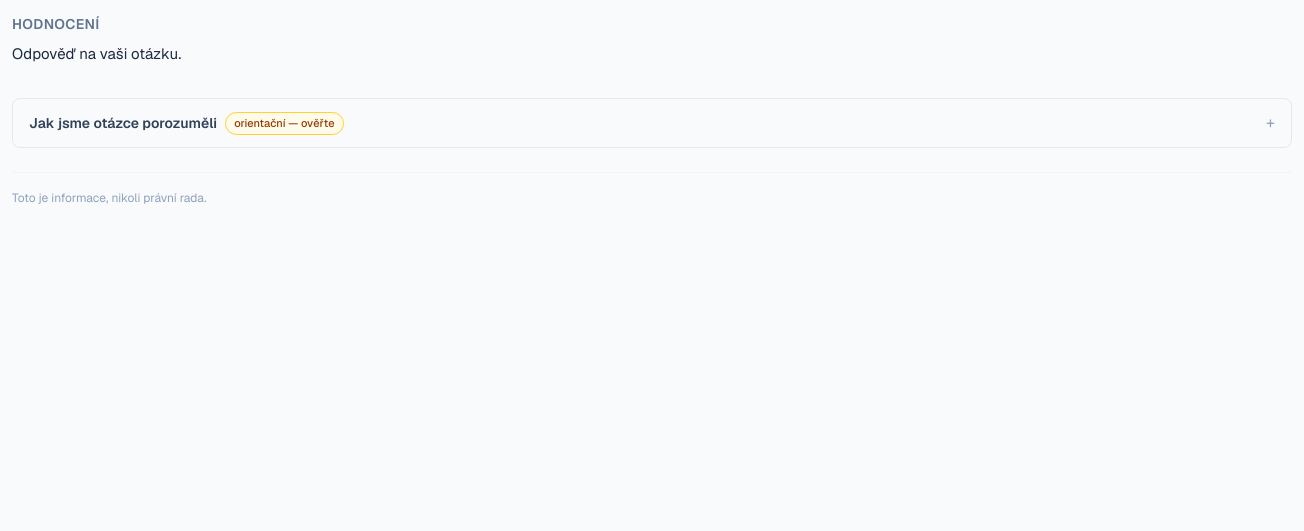
profile write-back (T7 / VL-A-11) on the answer view › with no profileId the save is disabled and no PATCH fires
Later steps or results of the test are not shown.
Click the button "Jak jsme otázce porozuměli orientační — ověřte +". click: (123, 123)
box: [13,99,1291,147]
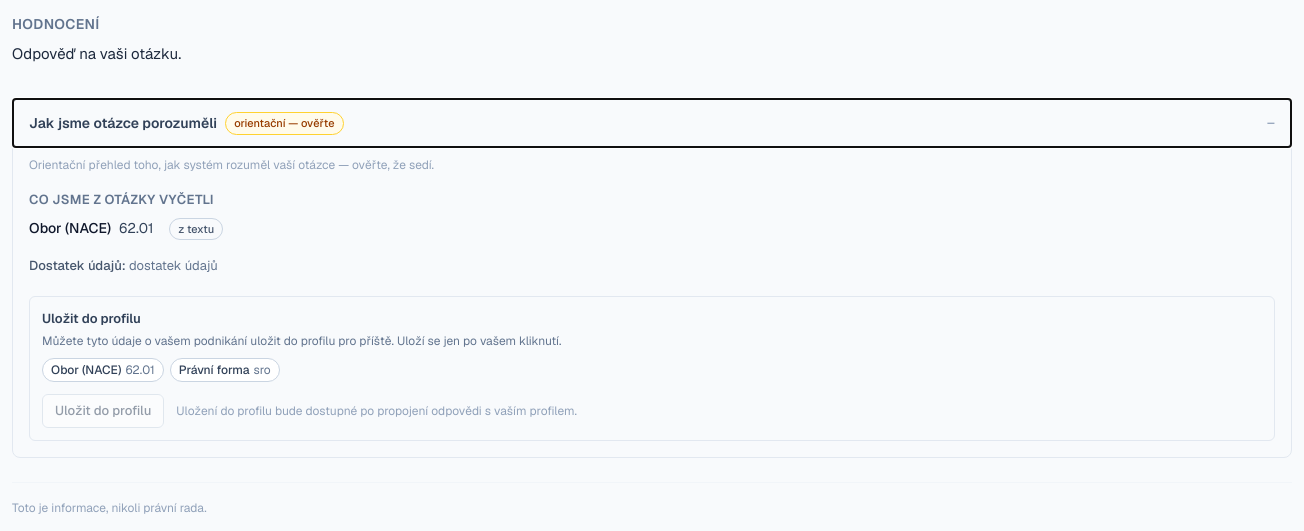
Result: the button "Uložit do profilu" is disabled at [42,394,164,428]
